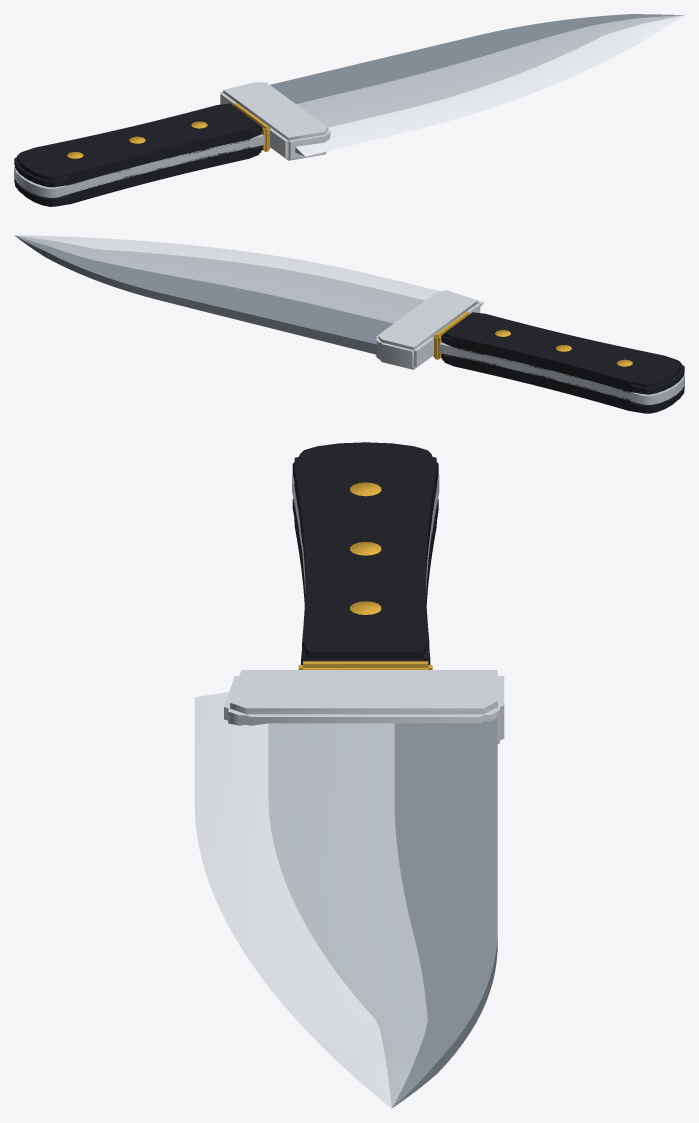
File: knife.glb
3 views of the same model, one above another, from view 1: azimuth 30°, elevation 25°; view 2: azimuth 150°, elevation 25°; view 3: azimuth 270°, elevation 25° (orthographic). The views are drawn at different scales.
Parts seen in each view (by area): view 1: Knife; view 2: Knife; view 3: Knife.
Boxes of the visible parts, <box> form: Knife: <box>14,14,684,206</box>; Knife: <box>14,235,684,413</box>; Knife: <box>194,442,504,1108</box>.
Bounding box in the file's own units: 7 × 0.304 × 1.43.
